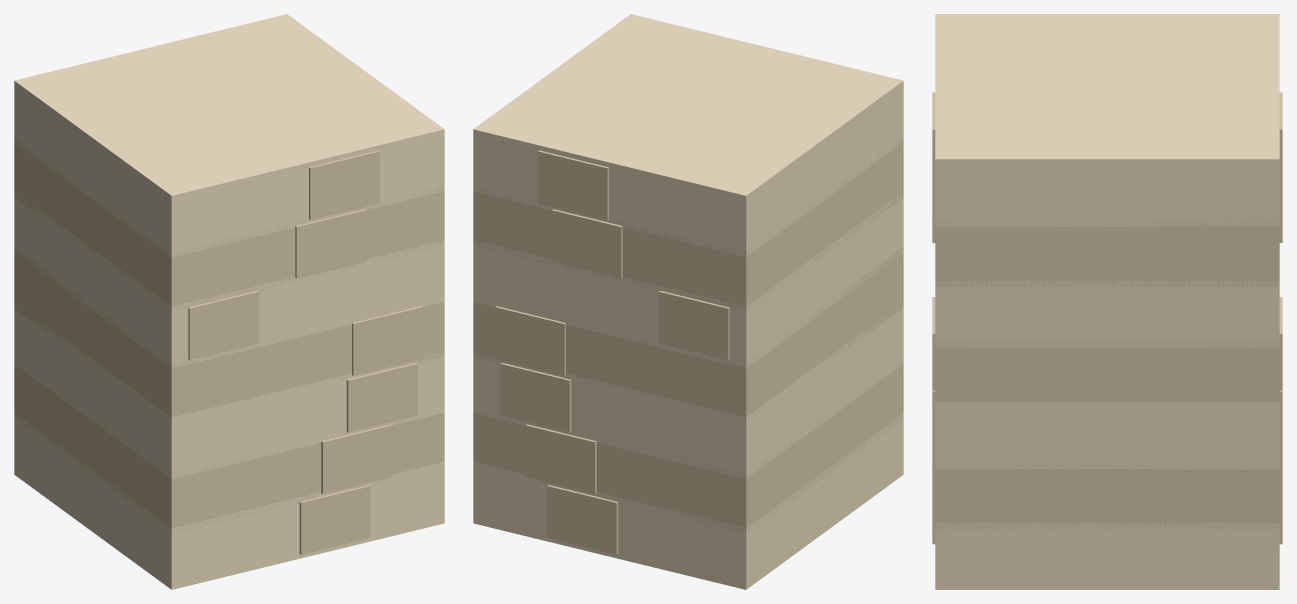
The model's file is mumia_coxa.glb.
The picture shows the model from 3 angles, left to right: view 1: azimuth 30°, elevation 25°; view 2: azimuth 150°, elevation 25°; view 3: azimuth 270°, elevation 25°; orthographic projection. The views are drawn at different scales.
Visible parts, largest first — view 1: mumia_coxa; view 2: mumia_coxa; view 3: mumia_coxa.
Part boxes in pixels (left/top/right/bottom): mumia_coxa: left=14, top=14, right=444, bottom=589; mumia_coxa: left=473, top=14, right=903, bottom=589; mumia_coxa: left=932, top=14, right=1282, bottom=589.
Bounding box in the file's own units: 0.275 × 0.3794 × 0.28.
